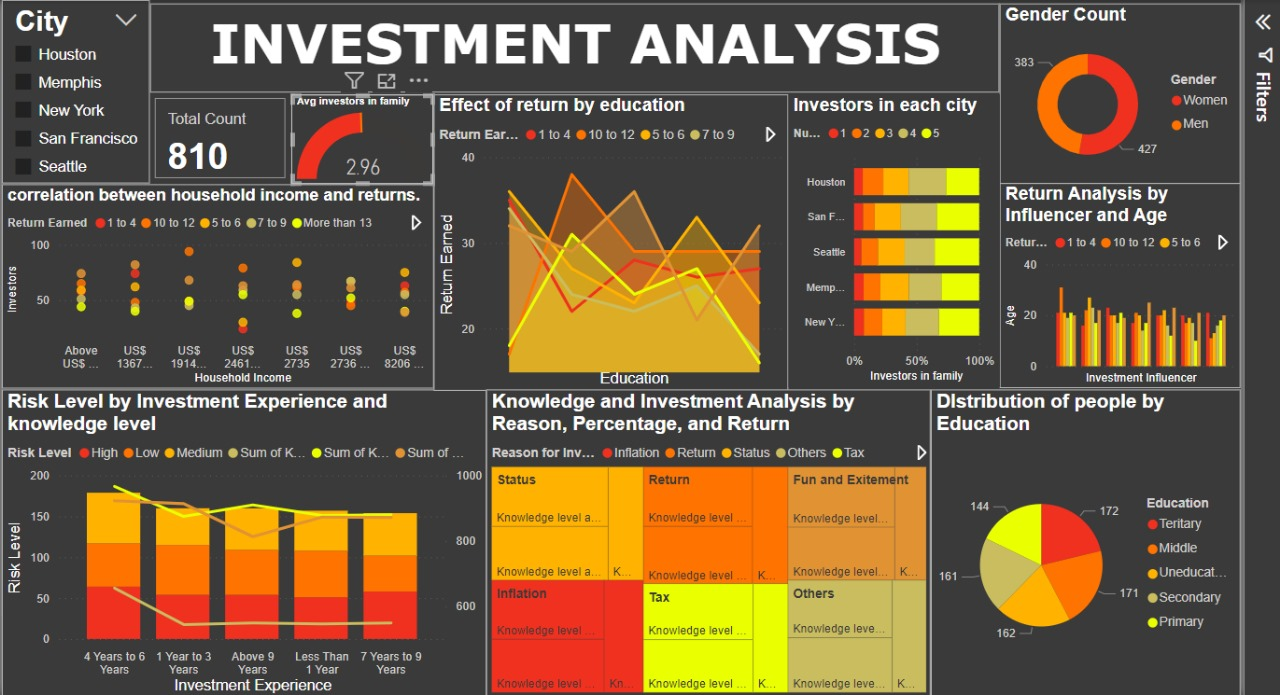

What the dashboard file says about the page in this screenshot:
{"tool":"powerbi","page":{"name":"Analysis","canvas":[1280,720],"ordinal":0},"visuals":[{"type":"textbox","box":[153.2,3.6,878,91.7],"z":0},{"type":"donutChart","title":"Gender Count","fields":{"Category":["dataset.Gender"],"Y":["CountNonNull(dataset.Gender)"]},"box":[1031.3,3,248.7,186.5],"z":1000},{"type":"cardVisual","fields":{"Data":["CountNonNull(dataset.Gender)"]},"box":[153,96.1,145.5,93.6],"z":2000},{"type":"slicer","fields":{"Values":["dataset.City"]},"box":[0,0,153,189.7],"z":3000},{"type":"pieChart","title":"Sources of Awareness","fields":{"Category":["dataset.Source of Awareness about Investment"],"Y":["CountNonNull(dataset.Source of Awareness about Investment)"]},"box":[960,402.2,320,317.5],"z":4000},{"type":"lineStackedColumnComboChart","title":"Risk Level by Investment Experience and knowledge level","fields":{"Category":["dataset.Investment Experience"],"Y":["CountNonNull(dataset.Risk Level)"],"Series":["dataset.Risk Level"],"Y2":["Sum(dataset.Knowledge about Govt. Schemes)","Sum(dataset.Knowledge level about different investment product)","Sum(dataset.Knowledge level about sharemarket)"]},"box":[0,401.6,500.5,318.4],"z":5000},{"type":"areaChart","title":"Effect of return by education","fields":{"Category":["dataset.Education"],"Y":["CountNonNull(dataset.Return Earned)"],"Series":["dataset.Return Earned"]},"box":[446.5,97.4,366.8,306.1],"z":6000},{"type":"scatterChart","title":" correlation between household income and returns.","fields":{"Series":["dataset.Return Earned"],"X":["dataset.Household Income"],"Y":["Sum(dataset.Number of investors in family)"]},"box":[0,191,446.5,211.2],"z":7000},{"type":"treemap","title":"Knowledge and Investment Analysis by Reason, Percentage, and Return","fields":{"Values":["Sum(dataset.Knowledge about Govt. Schemes)","Sum(dataset.Knowledge level about different investment product)","Sum(dataset.Knowledge level about sharemarket)"],"Group":["dataset.Reason for Investment","dataset.Percentage of Investment","dataset.Return Earned"]},"box":[500.9,402.2,459.1,317.5],"z":8000},{"type":"clusteredColumnChart","title":"Return Analysis by Influencer and Age","fields":{"Category":["dataset.Investment Influencer"],"Series":["dataset.Return Earned"],"Y":["CountNonNull(dataset.Age)"]},"box":[1031.2,191.8,248.4,212.3],"z":9000},{"type":"gauge","title":"Avg investors in family","fields":{"Y":["Avg(dataset.Number of investors in family)"],"MaxValue":["Max(dataset.Number of investors in family)"],"TargetValue":["Avg(dataset.Number of investors in family)"],"MinValue":["Min(dataset.Number of investors in family)1"]},"box":[299.1,97.7,147.1,92.9],"z":10000},{"type":"hundredPercentStackedBarChart","title":"Investors in each city","fields":{"Category":["dataset.City"],"Series":["dataset.Number of investors in family"],"Y":["Sum(dataset.Number of investors in family)"]},"box":[812.9,97.7,218.3,302.7],"z":11000}]}

Visuals, with their boxes in screenshot pixels (x1, y1, x2, y2):
textbox: x1=162 y1=17 x2=996 y2=104
"Gender Count" donutChart: x1=996 y1=16 x2=1232 y2=193
cardVisual - CountNonNull(dataset.Gender): x1=162 y1=105 x2=300 y2=193
slicer - dataset.City: x1=17 y1=13 x2=162 y2=193
"Sources of Awareness" pieChart: x1=928 y1=395 x2=1232 y2=694
"Risk Level by Investment Experience and knowledge level" lineStackedColumnComboChart: x1=17 y1=395 x2=492 y2=694
"Effect of return by education" areaChart: x1=441 y1=106 x2=789 y2=397
" correlation between household income and returns." scatterChart: x1=17 y1=195 x2=441 y2=395
"Knowledge and Investment Analysis by Reason, Percentage, and Return" treemap: x1=492 y1=395 x2=928 y2=694
"Return Analysis by Influencer and Age" clusteredColumnChart: x1=996 y1=195 x2=1232 y2=397
"Avg investors in family" gauge: x1=301 y1=106 x2=440 y2=194
"Investors in each city" hundredPercentStackedBarChart: x1=789 y1=106 x2=996 y2=394
